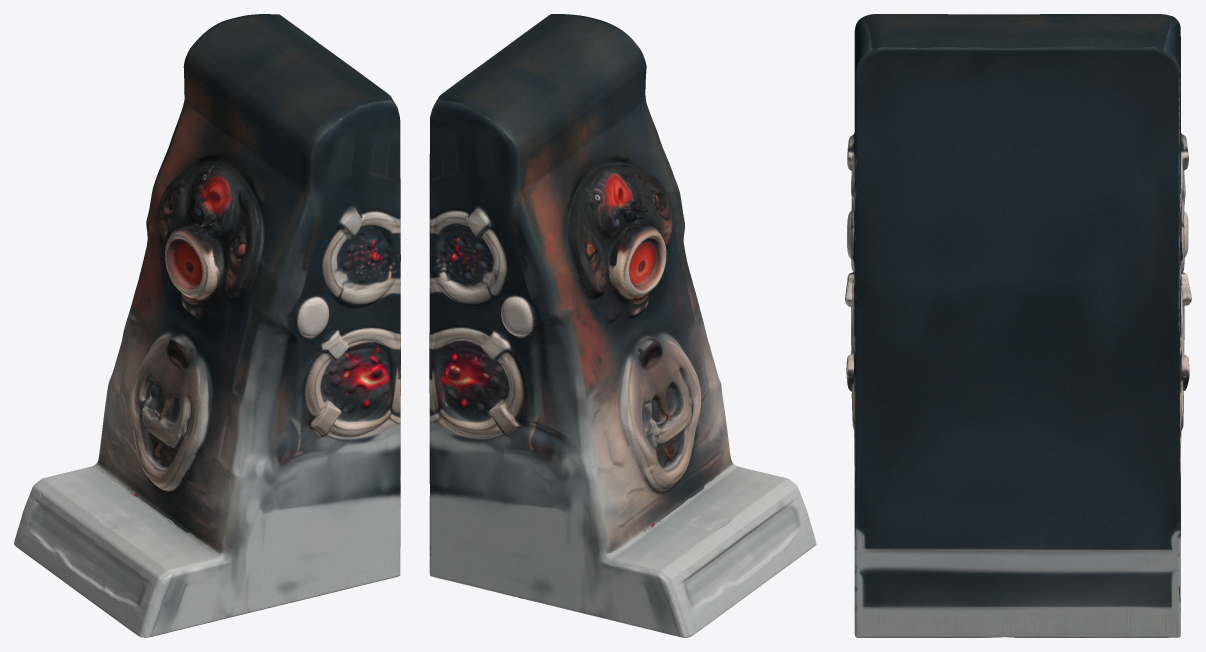
Rendered from image_0006_segmented.glb.
3 renders of one model, left to right at view 1: azimuth 30°, elevation 25°; view 2: azimuth 150°, elevation 25°; view 3: azimuth 270°, elevation 25°, orthographic. The views are drawn at different scales.
Parts seen in each view (by area): view 1: tmpgh2wrp8e.ply; view 2: tmpgh2wrp8e.ply; view 3: tmpgh2wrp8e.ply.
Boxes of the visible parts, box(x1,y1,x2,y2) form: tmpgh2wrp8e.ply: box(14, 14, 400, 637); tmpgh2wrp8e.ply: box(429, 14, 816, 637); tmpgh2wrp8e.ply: box(845, 14, 1191, 637).
Bounding box in the file's own units: 1.13 × 1.99 × 1.05.
1 material, 1 textured.
